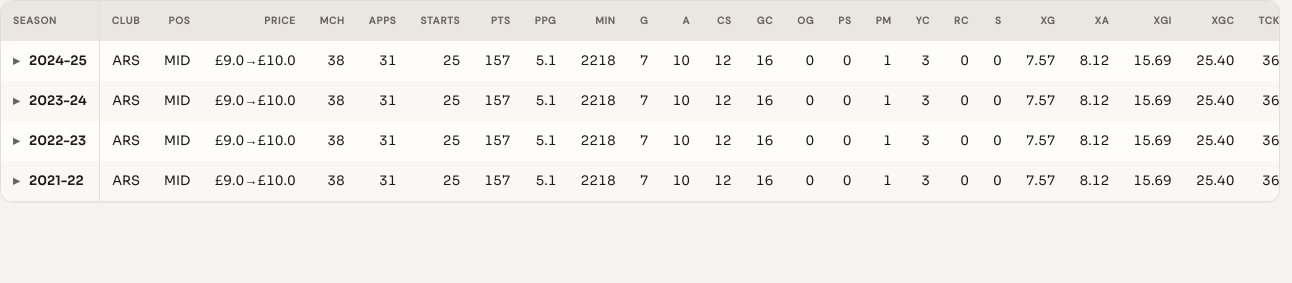
Test case: striping follows the data index, not DOM parity › keeps career stripes with a season expanded and the DOM parity shifted
Click the button "▸ 2024-25".
click(50, 61)  # box [13,51,87,71]
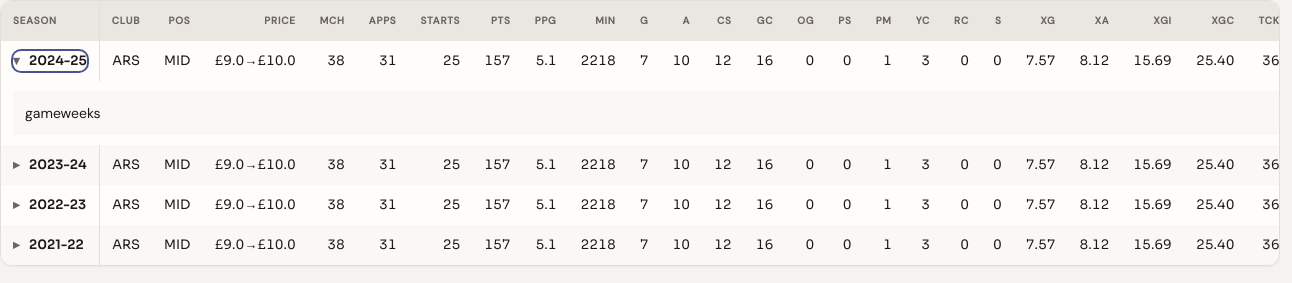
Check: the row "gameweeks" is shown, box [1,81,1280,145]
